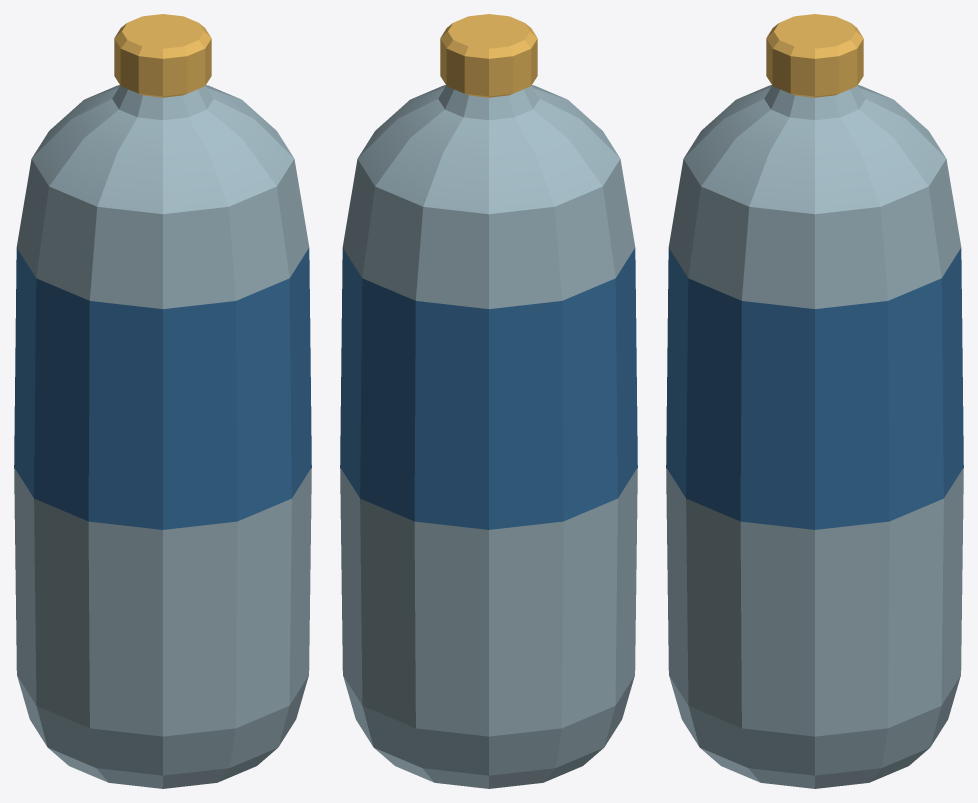
File: Soda_Bottle.fbx
3 views of the same model, side by side, from view 1: azimuth 30°, elevation 25°; view 2: azimuth 150°, elevation 25°; view 3: azimuth 270°, elevation 25° (orthographic).
Parts seen in each view (by area): view 1: Soda_Bottle; view 2: Soda_Bottle; view 3: Soda_Bottle.
Part boxes in pixels (box(x1,y1,x2,y2)): Soda_Bottle: box(14, 14, 311, 788); Soda_Bottle: box(340, 14, 637, 788); Soda_Bottle: box(666, 14, 963, 788).
Size of the model in its own units: 47.73 by 126 by 47.73.
